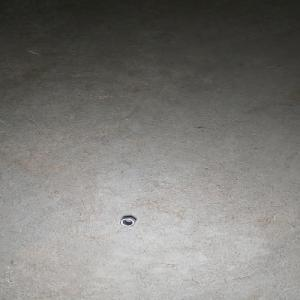Nut: (119, 216, 136, 227)
